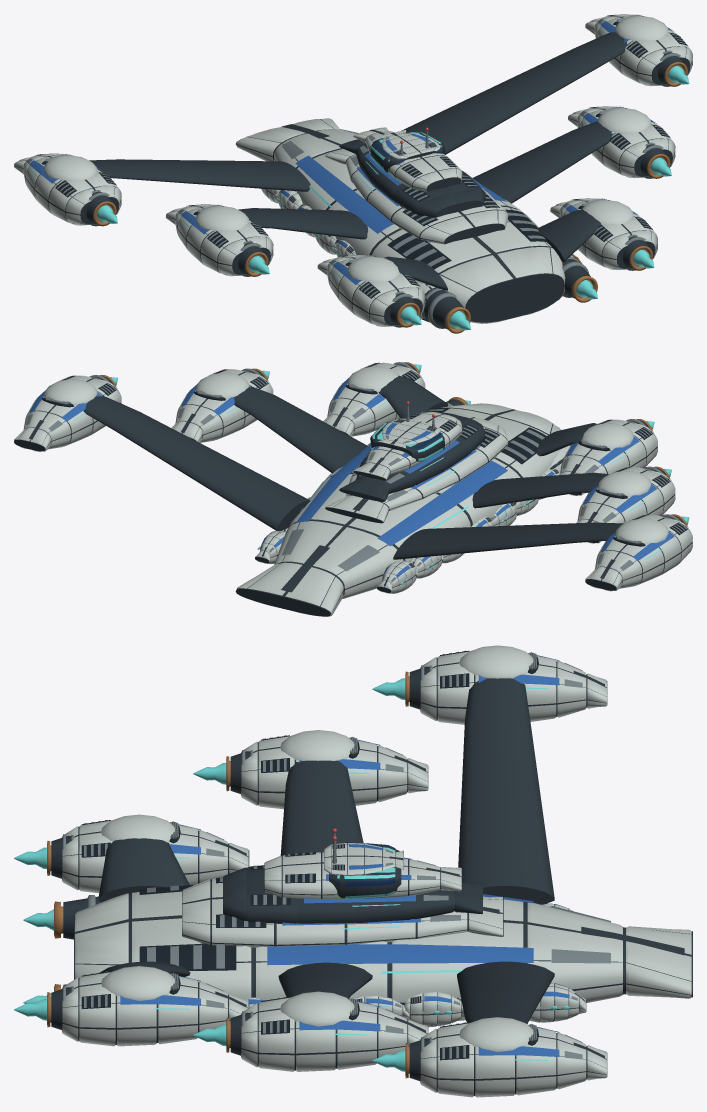
The model's file is hydra.glb.
The picture shows the model from 3 angles, top to bottom: view 1: azimuth 30°, elevation 25°; view 2: azimuth 150°, elevation 25°; view 3: azimuth 270°, elevation 25°; orthographic projection. The views are drawn at different scales.
Visible parts, largest first — view 1: hydra; view 2: hydra; view 3: hydra.
Part boxes in pixels (box(x1,y1,x2,y2)): hydra: box(14, 14, 692, 333); hydra: box(14, 362, 692, 616); hydra: box(14, 645, 692, 1097).
Size of the model in its own units: 120 by 23.27 by 83.38.
